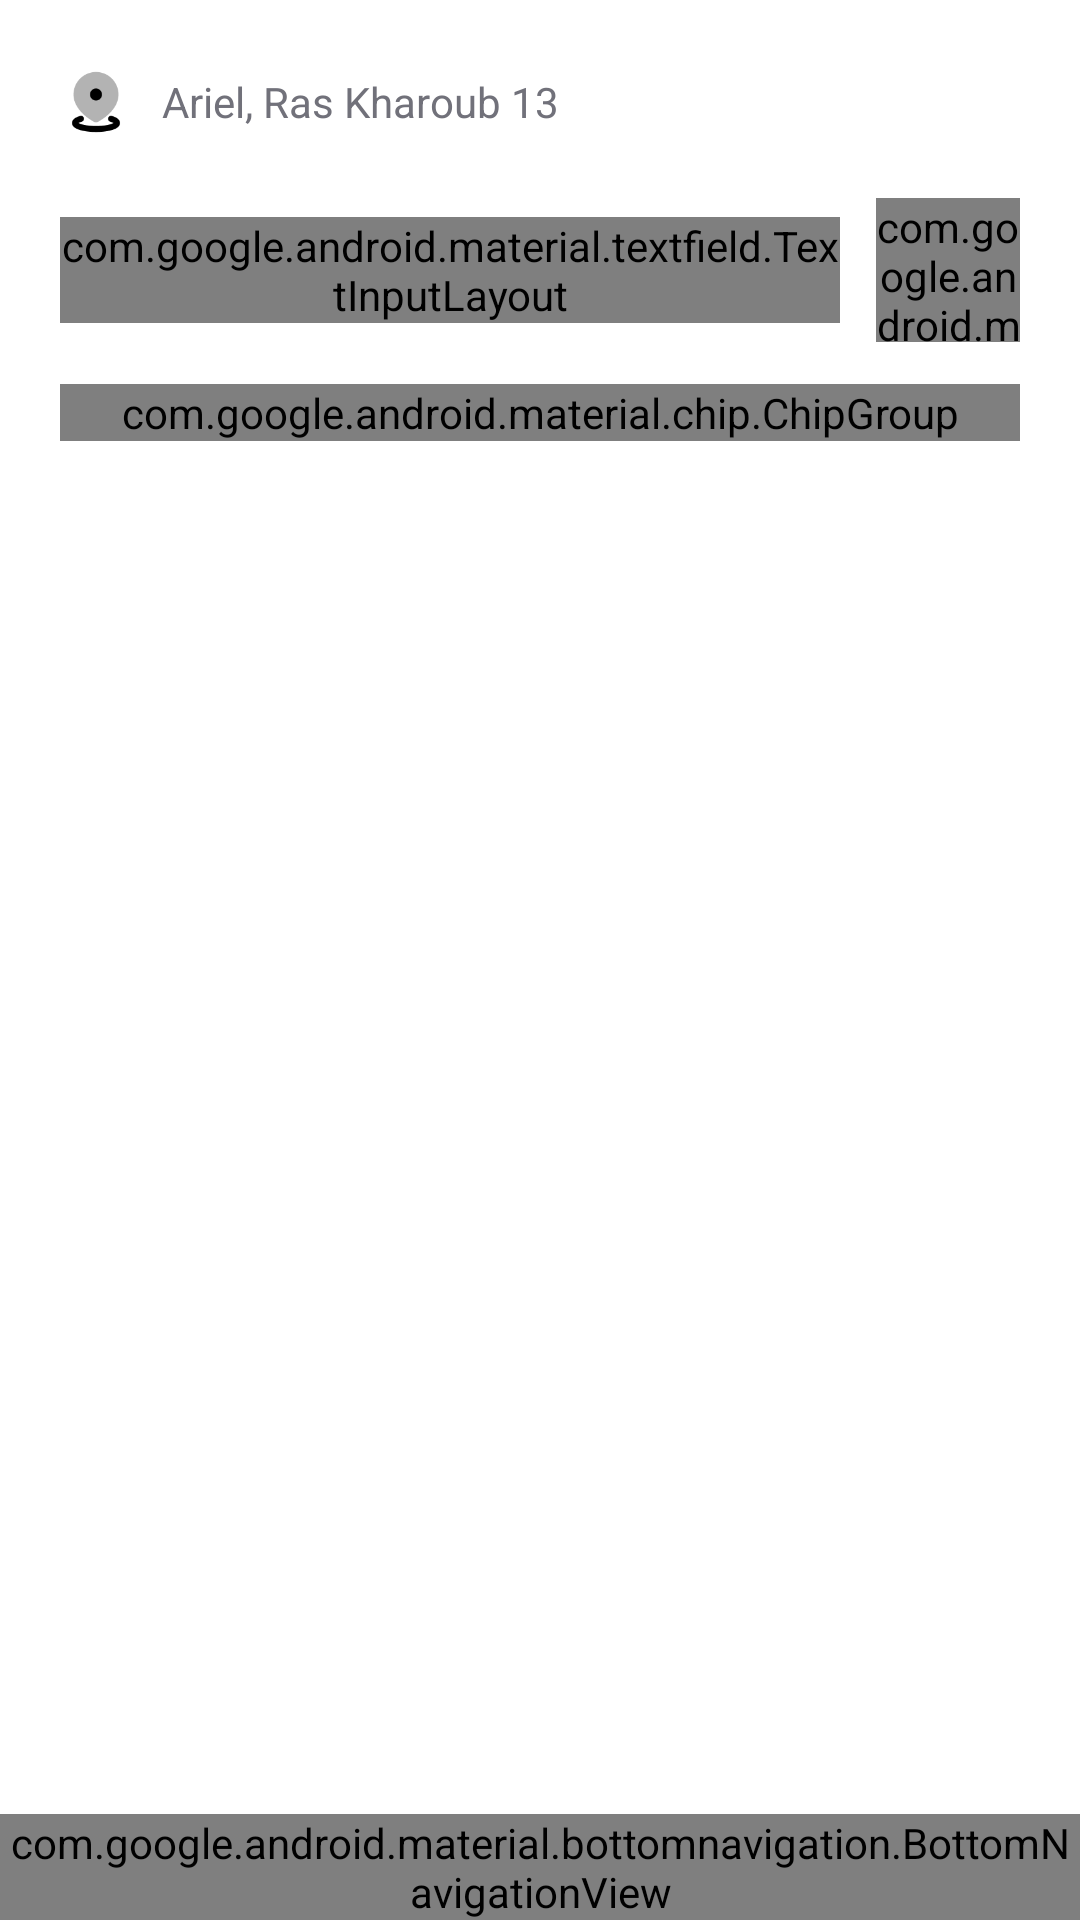

Locate icon controls on the screen. Image size 1080x1920, boxes as (x1, y1, x2, y2).
location: (72, 72, 120, 133)
